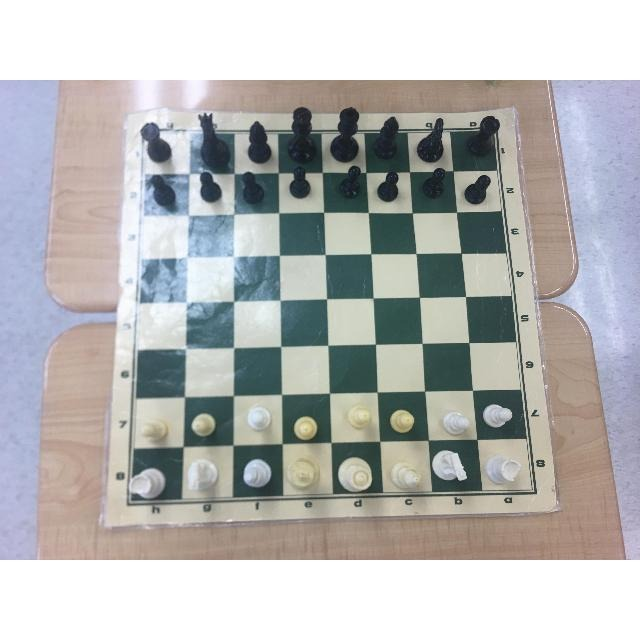black-bishop: (241, 115, 274, 165), (371, 116, 406, 160)
black-king: (332, 107, 362, 160)
black-knight: (186, 109, 233, 167), (418, 115, 450, 161)
black-pawn: (460, 170, 500, 212), (416, 169, 456, 206), (144, 175, 183, 212), (236, 171, 271, 209), (281, 173, 318, 205), (339, 168, 370, 202), (195, 175, 227, 207), (380, 169, 406, 205)
black-queen: (286, 104, 315, 161)
black-rook: (132, 123, 176, 161), (471, 114, 510, 155)
white-bishop: (386, 452, 428, 495), (240, 455, 276, 495)
white-king: (289, 455, 323, 497)
white-knight: (183, 453, 227, 500), (429, 448, 472, 490)
white-pawn: (435, 401, 471, 438), (386, 402, 421, 440), (139, 408, 173, 447), (241, 406, 279, 440), (286, 410, 325, 443), (344, 399, 376, 439), (187, 409, 223, 442), (481, 401, 515, 434)
white-queen: (336, 452, 376, 495)
white-rook: (482, 448, 529, 488), (125, 465, 170, 504)
